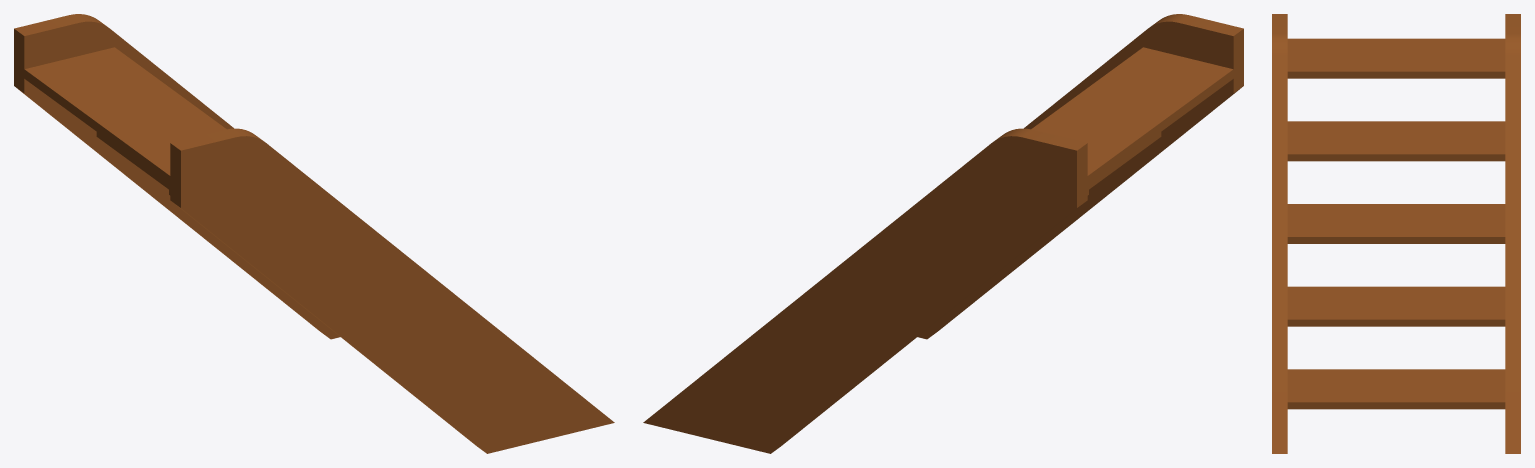
The model's file is Building_Modular_Wood_Stairs_01.fbx.
3 renders of one model, left to right at view 1: azimuth 30°, elevation 25°; view 2: azimuth 150°, elevation 25°; view 3: azimuth 270°, elevation 25°, orthographic. The views are drawn at different scales.
Visible parts, largest first — view 1: Model; view 2: Model; view 3: Model.
Boxes of the visible parts, x1,y1,x2,y2 form: Model: (14,14,614,453); Model: (643,14,1243,453); Model: (1272,14,1520,453).
Size of the model in its own units: 542 by 451 by 361.
